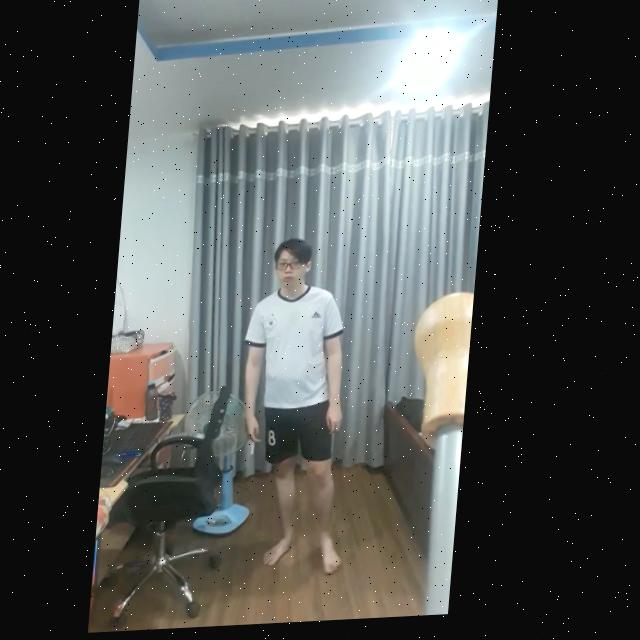cigarette: (259, 443, 264, 458)
